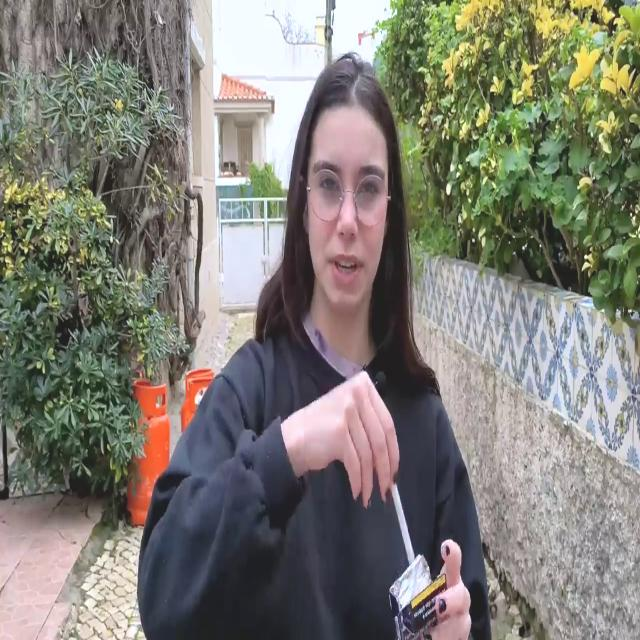Smooking: (386, 466, 420, 568)
